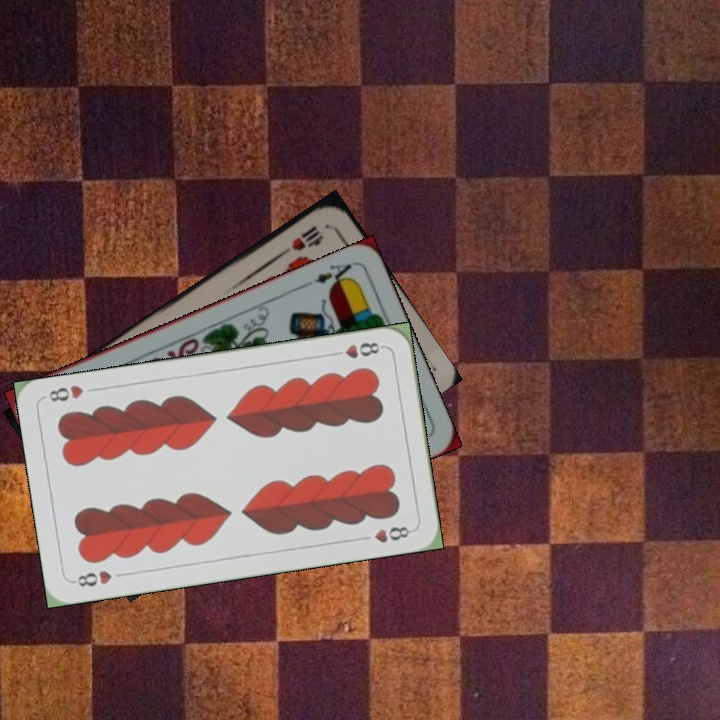EA: (301, 259, 357, 290)
H10: (276, 221, 325, 259)
H8: (327, 338, 386, 361), (69, 566, 115, 589)
